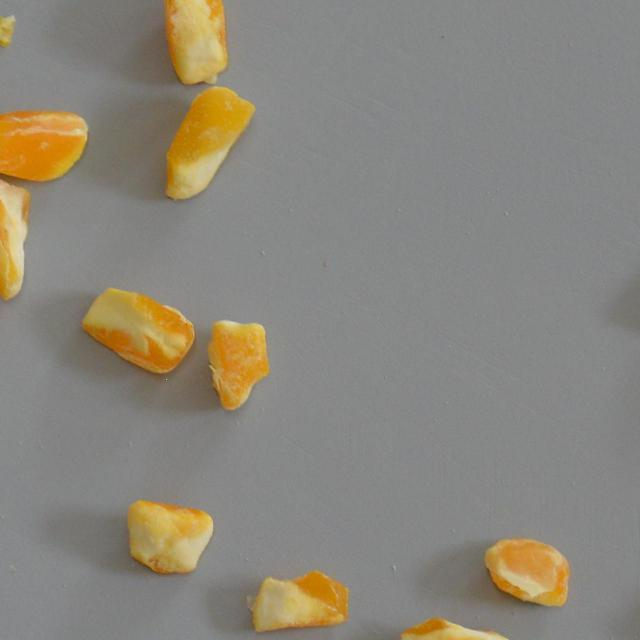estandar: (122, 495, 217, 577)
no_desgerminado: (162, 0, 229, 89)
pelicula: (158, 81, 258, 200), (78, 285, 196, 376), (242, 564, 352, 632), (480, 532, 571, 610), (0, 108, 91, 183), (205, 316, 270, 412), (0, 178, 34, 300), (397, 614, 515, 640)
